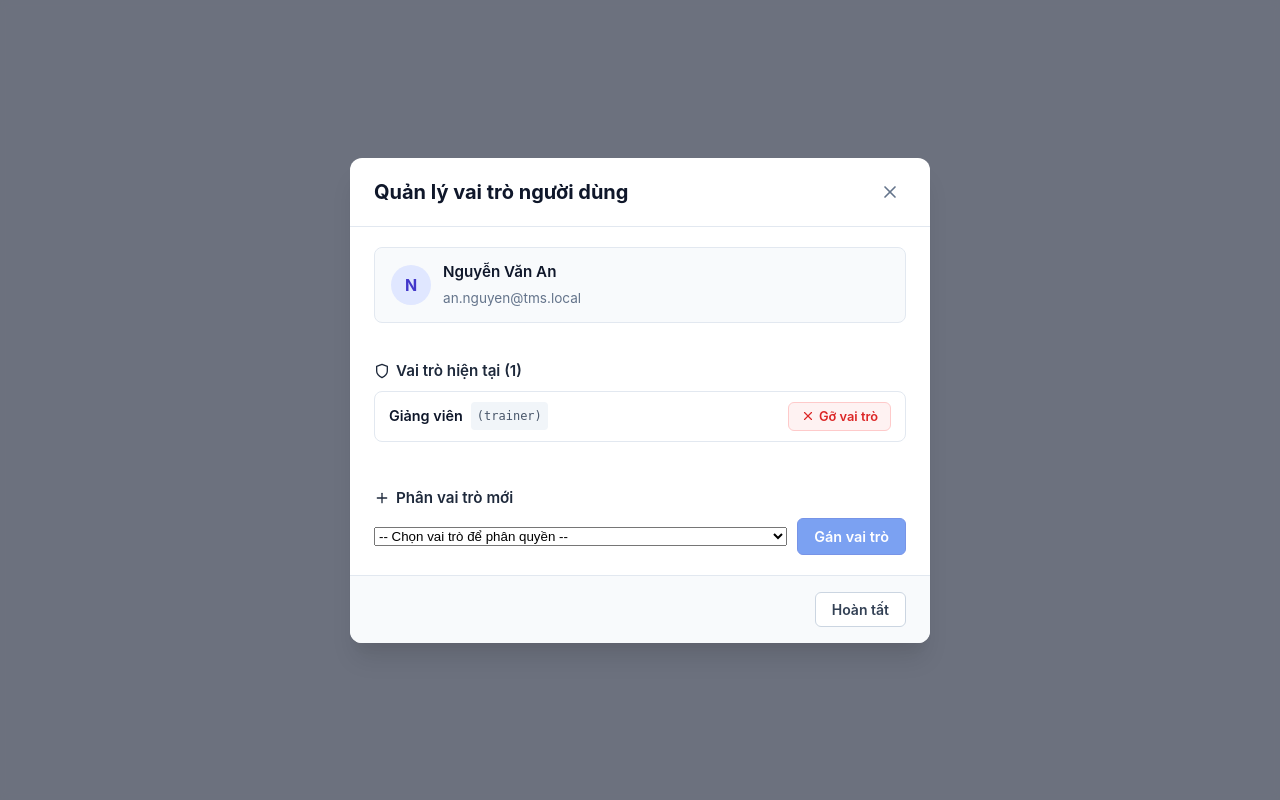
SCRUM-101: User Role Management Modal Component › 4. xử lý khi vai trò đã tồn tại (409 Conflict duplicate role)
Select "Quản trị viên (admin)" in the dropdown with test id "select-assign-role" at (581, 536), box [374, 526, 787, 546]
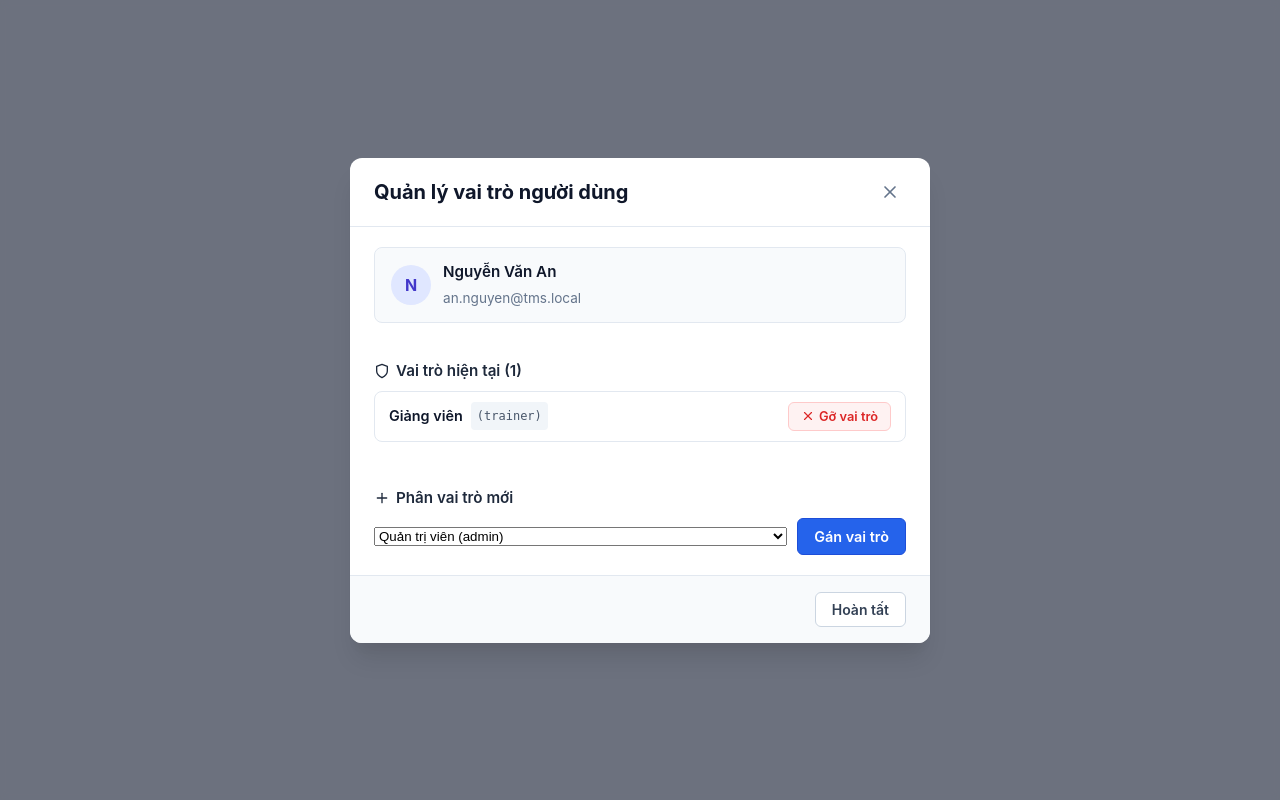
Click the button with test id "btn-assign-role-submit" at (852, 536), box [797, 518, 906, 554]
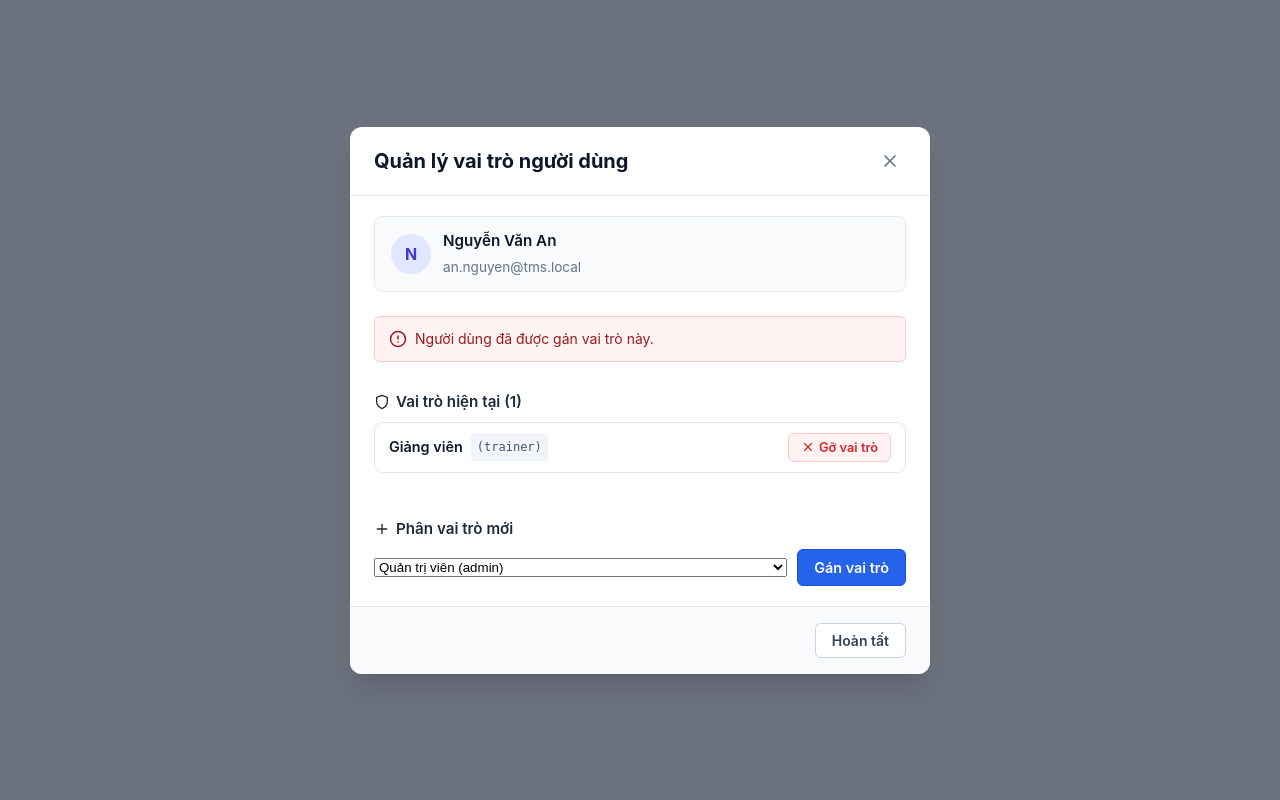
expect the message "Người dùng đã được gán vai trò này." is shown: met, box [374, 316, 906, 362]
expect the text "Người dùng đã được gán vai trò này." is shown: met, box [415, 326, 654, 350]
